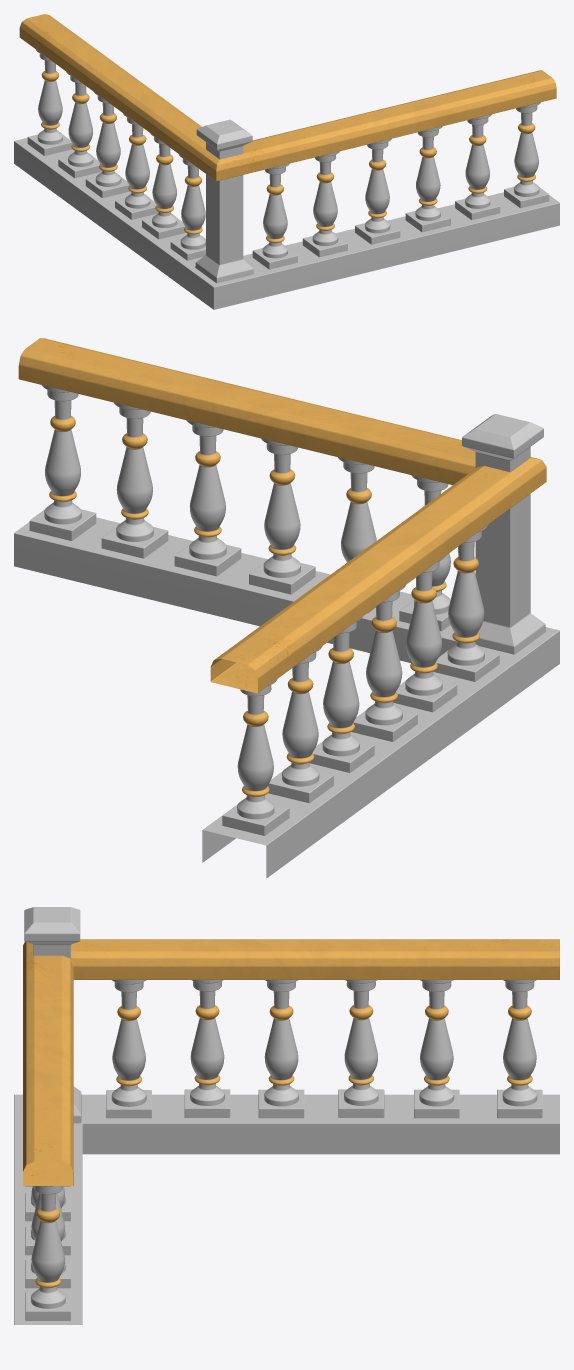
File: SM_Railing_Corner.fbx
3 views of the same model, one above another, from view 1: azimuth 30°, elevation 25°; view 2: azimuth 150°, elevation 25°; view 3: azimuth 270°, elevation 25° (orthographic). The views are drawn at different scales.
Visible parts, largest first — view 1: SM_Railing_Corner_LOD0; view 2: SM_Railing_Corner_LOD0; view 3: SM_Railing_Corner_LOD0.
Part boxes in pixels (box(x1,y1,x2,y2)): SM_Railing_Corner_LOD0: box(14, 14, 559, 309); SM_Railing_Corner_LOD0: box(14, 338, 559, 878); SM_Railing_Corner_LOD0: box(14, 907, 559, 1324).
Bounding box in the file's own units: 320 × 320 × 147.
